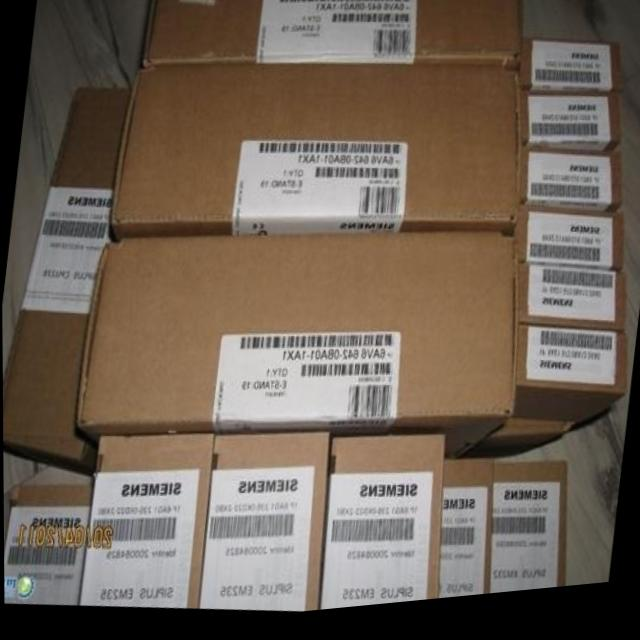box: (74, 240, 518, 469), (108, 66, 521, 242), (2, 87, 131, 464), (142, 0, 523, 70), (197, 439, 329, 617), (79, 439, 213, 612), (319, 443, 444, 616), (514, 335, 626, 436), (3, 483, 91, 607), (487, 471, 566, 603), (518, 271, 626, 344), (438, 469, 491, 607), (518, 213, 623, 282), (521, 157, 621, 219), (522, 101, 621, 162), (520, 46, 618, 104)
